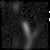node: (19, 19, 33, 35), (10, 1, 22, 14)
